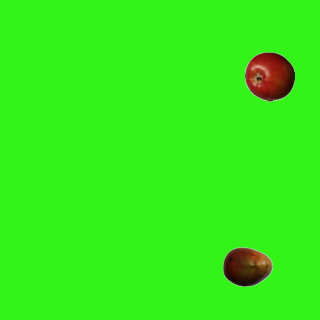Apple Braeburn: (244, 51, 294, 101)
Mango Red: (222, 241, 272, 291)
